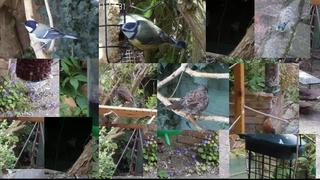blue tit: (119, 20, 186, 50), (276, 20, 290, 39)
dunnock: (162, 83, 209, 120)
great tit: (20, 20, 79, 53)
starling: (117, 83, 137, 108)
